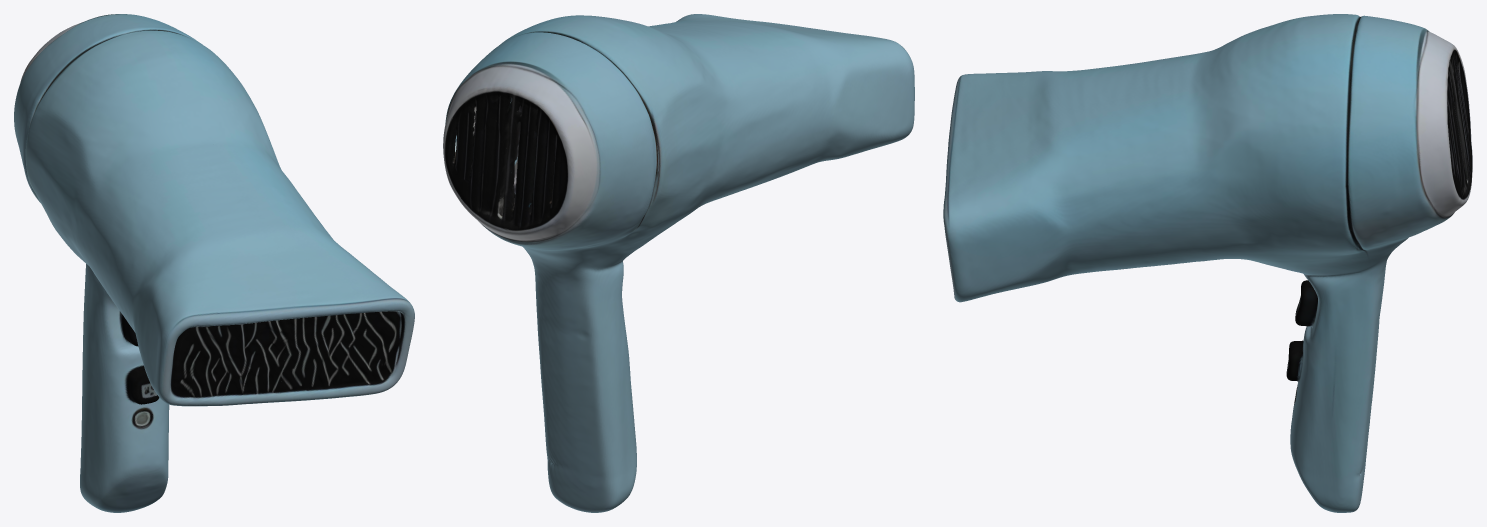
File: hairdryer glb.glb
3 views of the same model, side by side, from view 1: azimuth 30°, elevation 25°; view 2: azimuth 150°, elevation 25°; view 3: azimuth 270°, elevation 25° (orthographic). The views are drawn at different scales.
Visible parts, largest first — view 1: vizcom_node_0; view 2: vizcom_node_0; view 3: vizcom_node_0.
Part boxes in pixels (left/top/right/bottom): vizcom_node_0: left=14, top=14, right=414, bottom=512; vizcom_node_0: left=443, top=14, right=914, bottom=512; vizcom_node_0: left=943, top=14, right=1472, bottom=512.
Bounding box in the file's own units: 0.5456 × 0.9494 × 0.9371.
1 material, 1 textured.
